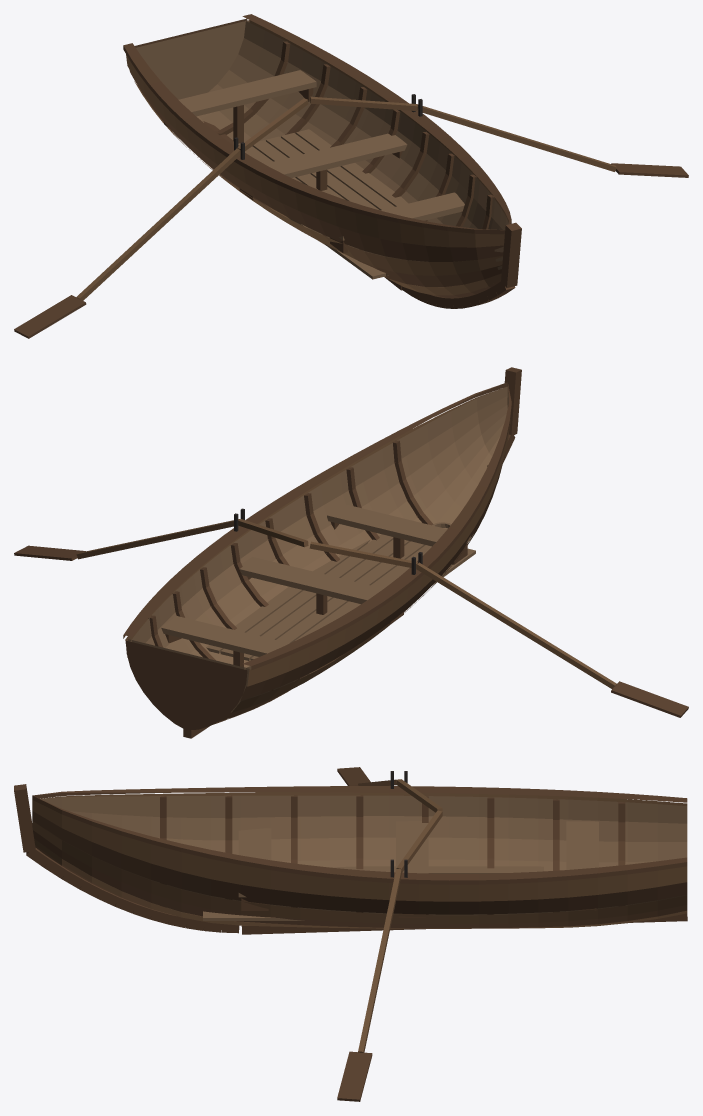
The model's file is barca.glb.
3 renders of one model, top to bottom at view 1: azimuth 30°, elevation 25°; view 2: azimuth 150°, elevation 25°; view 3: azimuth 270°, elevation 25°, orthographic. The views are drawn at different scales.
Parts seen in each view (by area): view 1: Barca; view 2: Barca; view 3: Barca.
Part boxes in pixels (<box>): Barca: <box>14,14,688,338</box>; Barca: <box>14,367,688,738</box>; Barca: <box>14,767,687,1101</box>.
Bounding box in the file's own units: 5.77 × 1.21 × 4.95.
